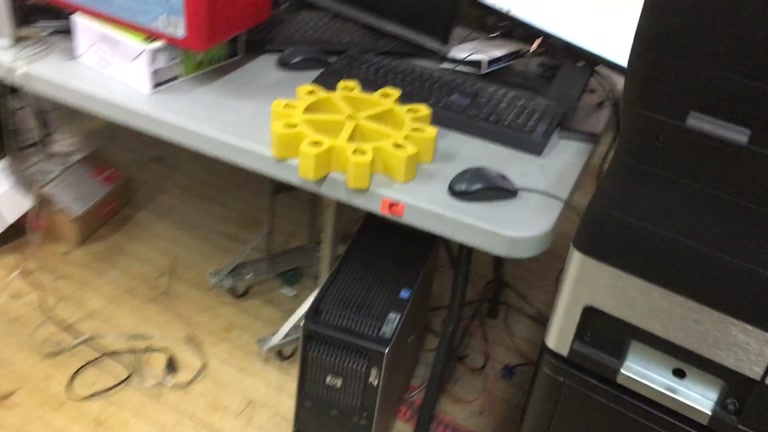gear: (269, 77, 438, 193)
